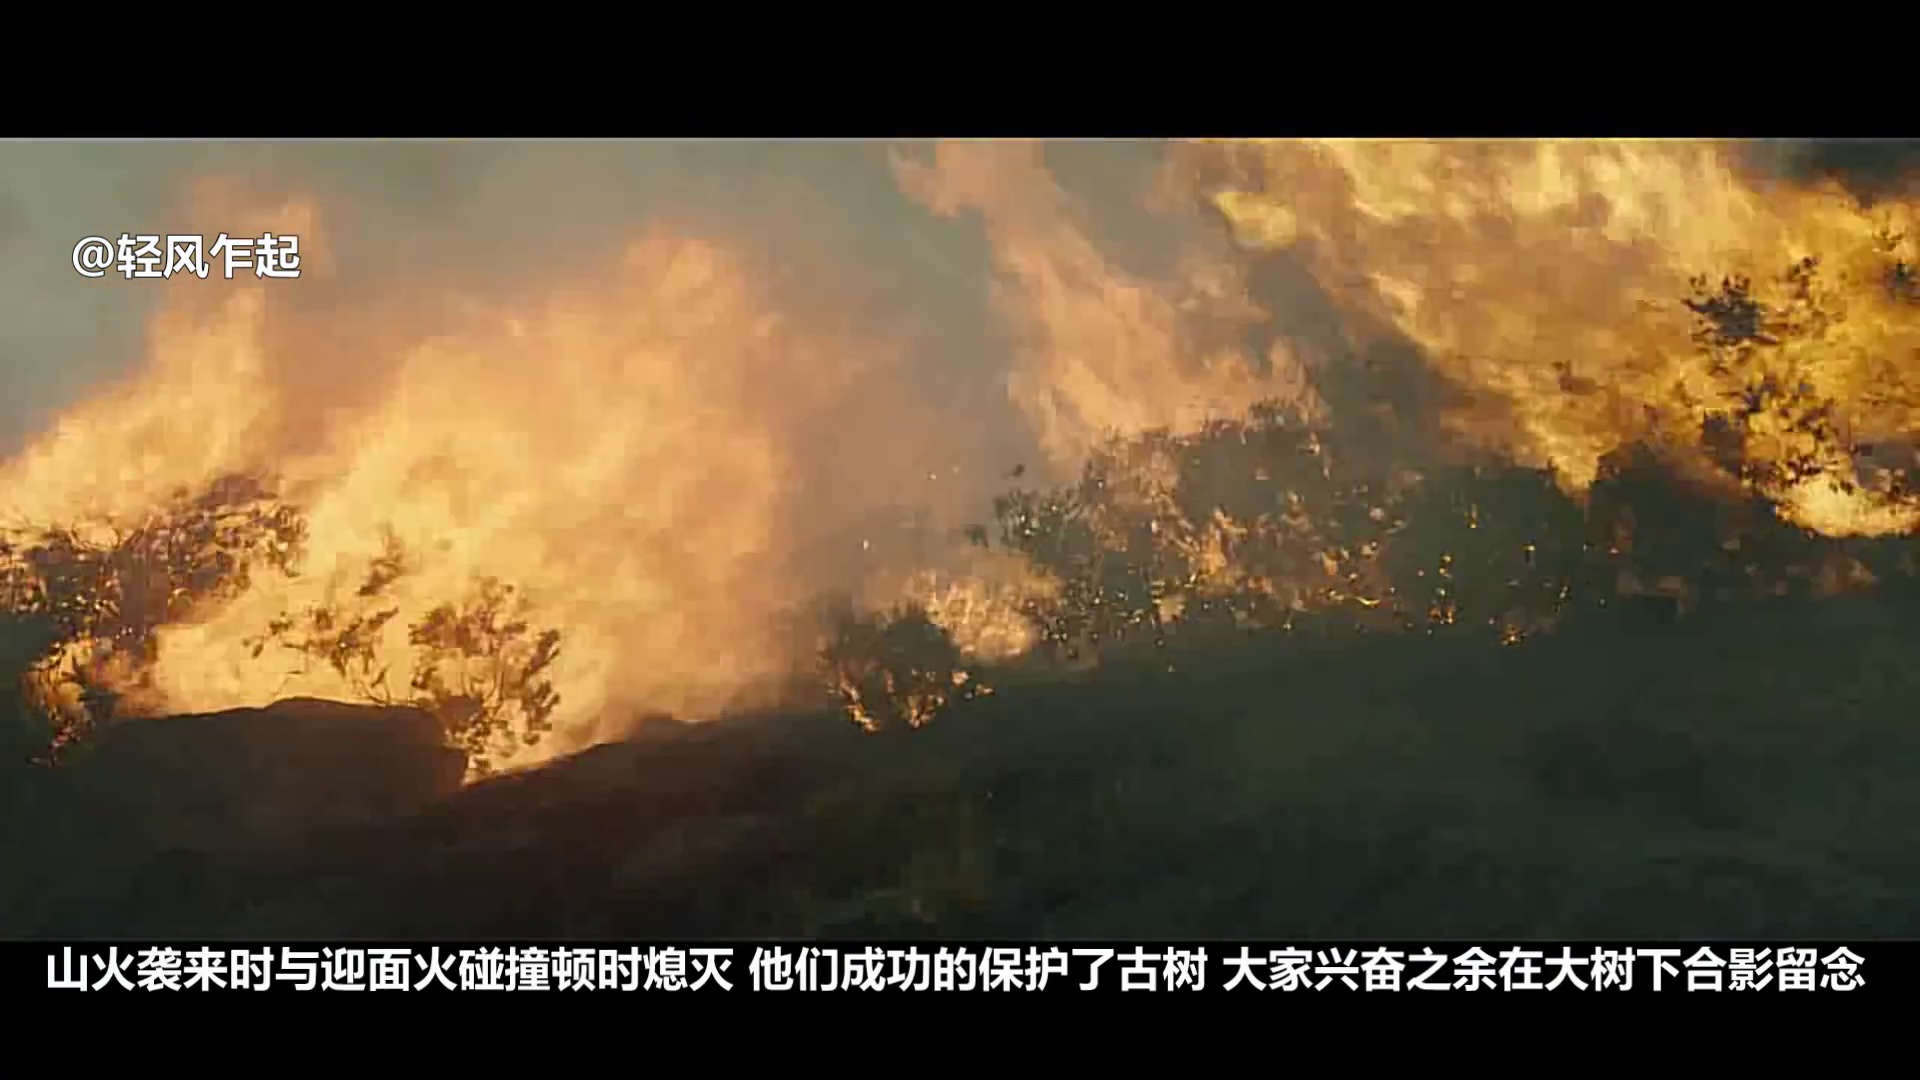fire: (1222, 141, 1920, 538), (277, 332, 724, 732), (6, 401, 239, 533), (934, 588, 1035, 657)
